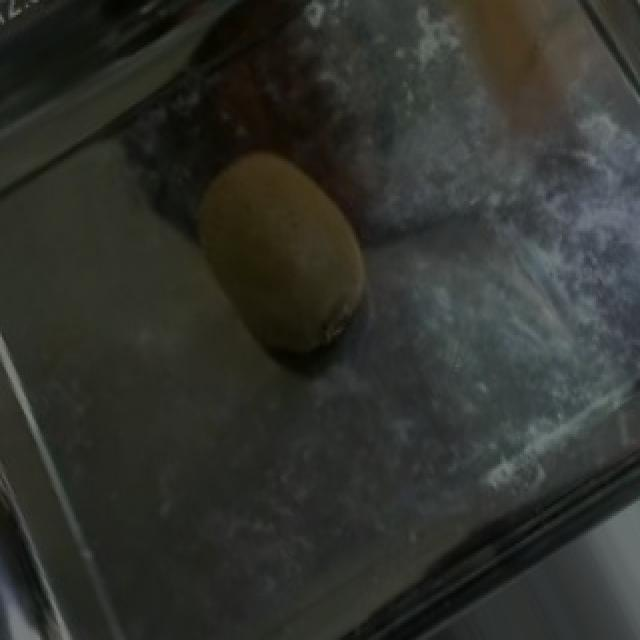Fruit: (152, 112, 410, 400)
